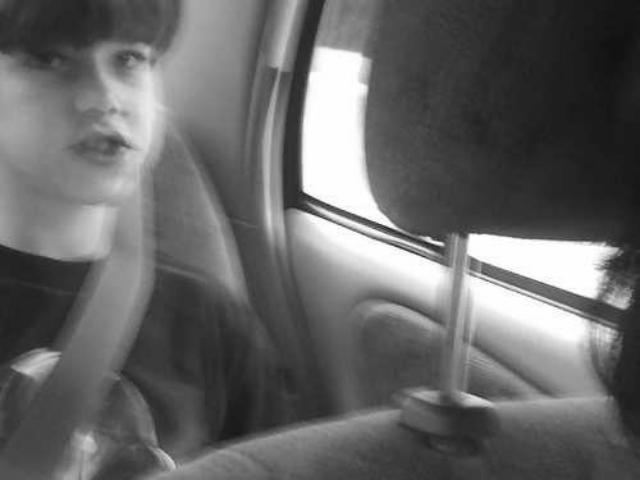SafeDriving: (60, 108, 148, 173), (8, 39, 82, 78), (100, 34, 162, 74)
Seatbelt: (0, 158, 164, 480)
